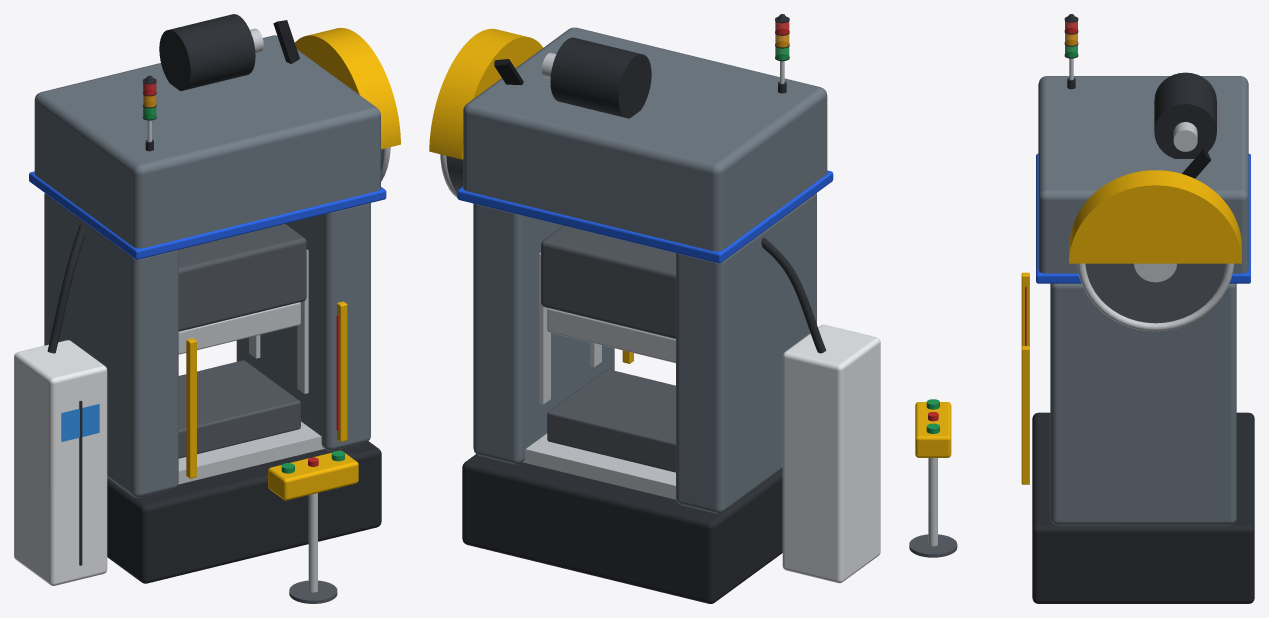
File: stamping-press.glb
3 renders of one model, left to right at view 1: azimuth 30°, elevation 25°; view 2: azimuth 150°, elevation 25°; view 3: azimuth 270°, elevation 25°, orthographic. The views are drawn at different scales.
Parts seen in each view (by area): view 1: stamping_press_paint_press, stamping_press_graphite, stamping_press_paint_white, stamping_press_dark_steel, stamping_press_safety_yellow, stamping_press_steel, stamping_press_accent_blue, stamping_press_screen, stamping_press_rubber; view 2: stamping_press_paint_press, stamping_press_graphite, stamping_press_paint_white, stamping_press_dark_steel, stamping_press_steel, stamping_press_safety_yellow, stamping_press_accent_blue; view 3: stamping_press_paint_press, stamping_press_graphite, stamping_press_safety_yellow, stamping_press_dark_steel, stamping_press_steel, stamping_press_accent_blue.
Part boxes in pixels (x1,y1,x2,y2): stamping_press_paint_press: (34,35,380,497); stamping_press_graphite: (47,14,381,583); stamping_press_paint_white: (14,340,107,585); stamping_press_dark_steel: (178,148,384,603); stamping_press_safety_yellow: (186,28,400,500); stamping_press_steel: (147,28,390,592); stamping_press_accent_blue: (29,171,386,259); stamping_press_screen: (61,404,99,441); stamping_press_rubber: (273,20,299,63); stamping_press_paint_press: (463,27,827,513); stamping_press_graphite: (462,14,825,603); stamping_press_paint_white: (782,324,880,583); stamping_press_dark_steel: (446,156,675,472); stamping_press_steel: (440,52,784,499); stamping_press_safety_yellow: (429,28,633,363); stamping_press_accent_blue: (457,170,833,263); stamping_press_paint_press: (1038,76,1248,525); stamping_press_graphite: (1032,14,1254,603); stamping_press_safety_yellow: (915,170,1241,484); stamping_press_dark_steel: (909,263,1225,557); stamping_press_steel: (928,58,1233,546); stamping_press_accent_blue: (1036,153,1250,283).
Bounding box in the file's own units: 3.31 × 4.47 × 2.87.
